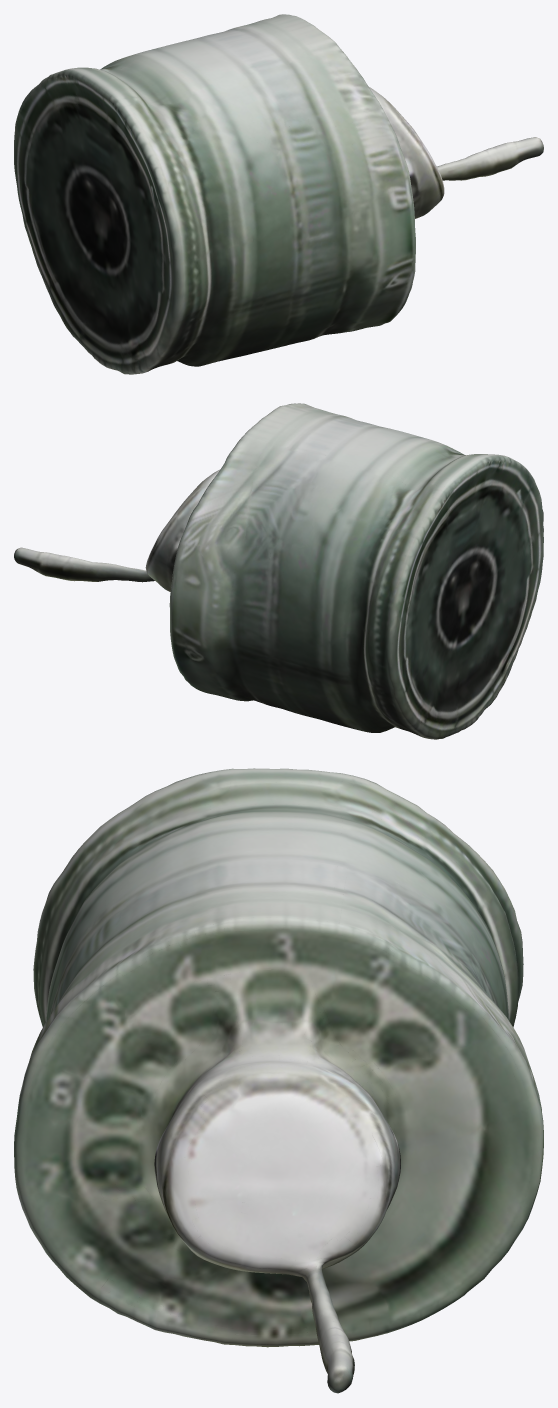
The model's file is green_telephone_dial.fbx.
3 views of the same model, one above another, from view 1: azimuth 30°, elevation 25°; view 2: azimuth 150°, elevation 25°; view 3: azimuth 270°, elevation 25° (orthographic). The views are drawn at different scales.
Parts seen in each view (by area): view 1: tripo_0e15ab3d-6407-4c3f-be3d-b99abeb63d16; view 2: tripo_0e15ab3d-6407-4c3f-be3d-b99abeb63d16; view 3: tripo_0e15ab3d-6407-4c3f-be3d-b99abeb63d16.
Part boxes in pixels (box(x1,y1,x2,y2)): tripo_0e15ab3d-6407-4c3f-be3d-b99abeb63d16: box(14, 14, 543, 374); tripo_0e15ab3d-6407-4c3f-be3d-b99abeb63d16: box(14, 403, 543, 739); tripo_0e15ab3d-6407-4c3f-be3d-b99abeb63d16: box(14, 768, 543, 1393).
Size of the model in its own units: 88.91 by 51.46 by 58.81.
Materials: 1 (1 with a texture image).
